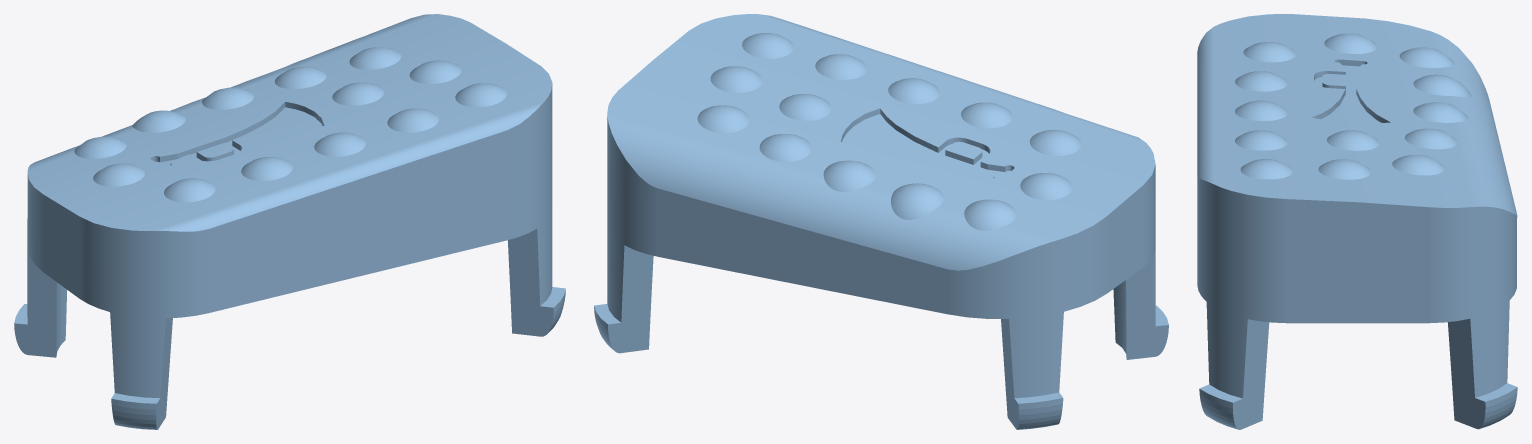
The picture shows the model from 3 angles, left to right: view 1: azimuth 30°, elevation 25°; view 2: azimuth 150°, elevation 25°; view 3: azimuth 270°, elevation 25°; orthographic projection.
Visible parts, largest first — view 1: part_0; view 2: part_0; view 3: part_0.
Boxes of the visible parts, x1=… form: part_0: x1=14, y1=14, x2=565, y2=429; part_0: x1=594, y1=14, x2=1168, y2=429; part_0: x1=1197, y1=14, x2=1517, y2=429.
Size of the model in its own units: 38.92 by 19.23 by 23.32.
